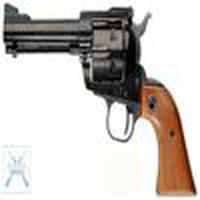gun: (4, 6, 200, 199)
